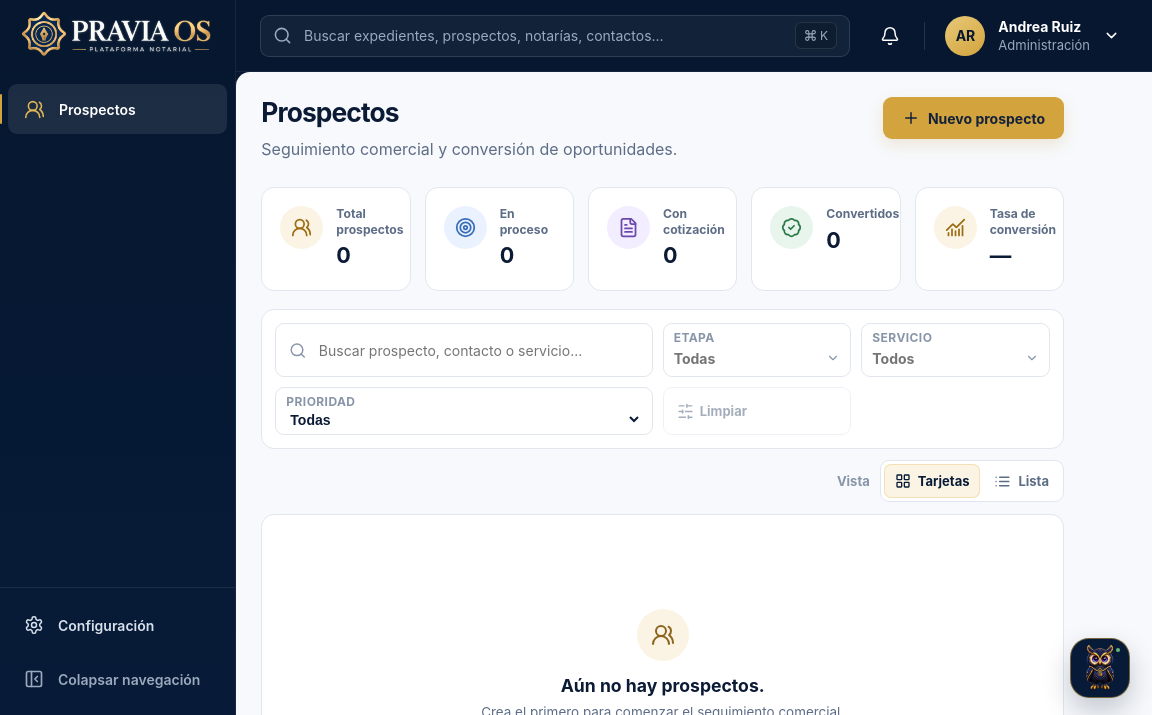
Test case: Prospectos › nuevo prospecto solicita sólo el mínimo, asigna datos automáticos y abre la ficha
expect the heading "Aún no hay prospectos." is shown: met, box [561,675,765,696]
Click the button "Nuevo prospecto". click: (973, 118)
box: [883,97,1064,139]
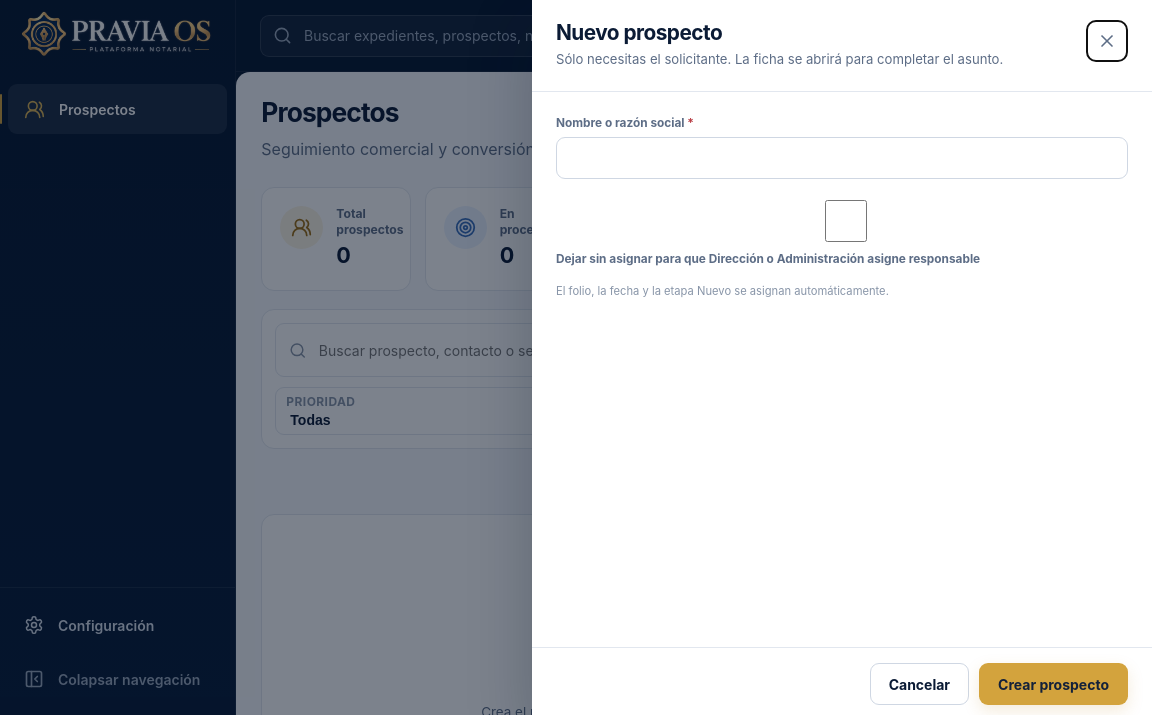
expect the number of fields is 2: met
expect the text "folio, la fecha y la etapa Nuevo se asignan automáticamente" is shown: met, box [556,284,889,298]
Type "Francisco Javier Tapia López" into the field labelled "Nombre o razón social *". click: (842, 158)
box: [556,137,1128,179]
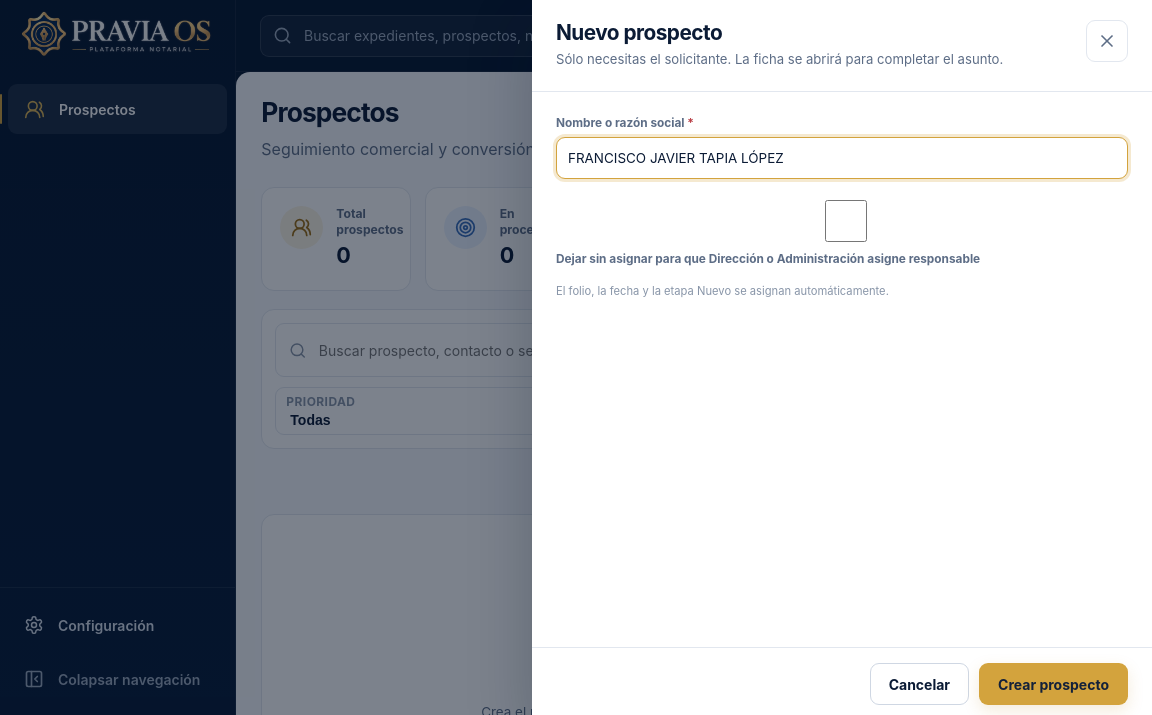
Click the button "Crear prospecto". click: (1054, 684)
box: [979,663,1128,705]
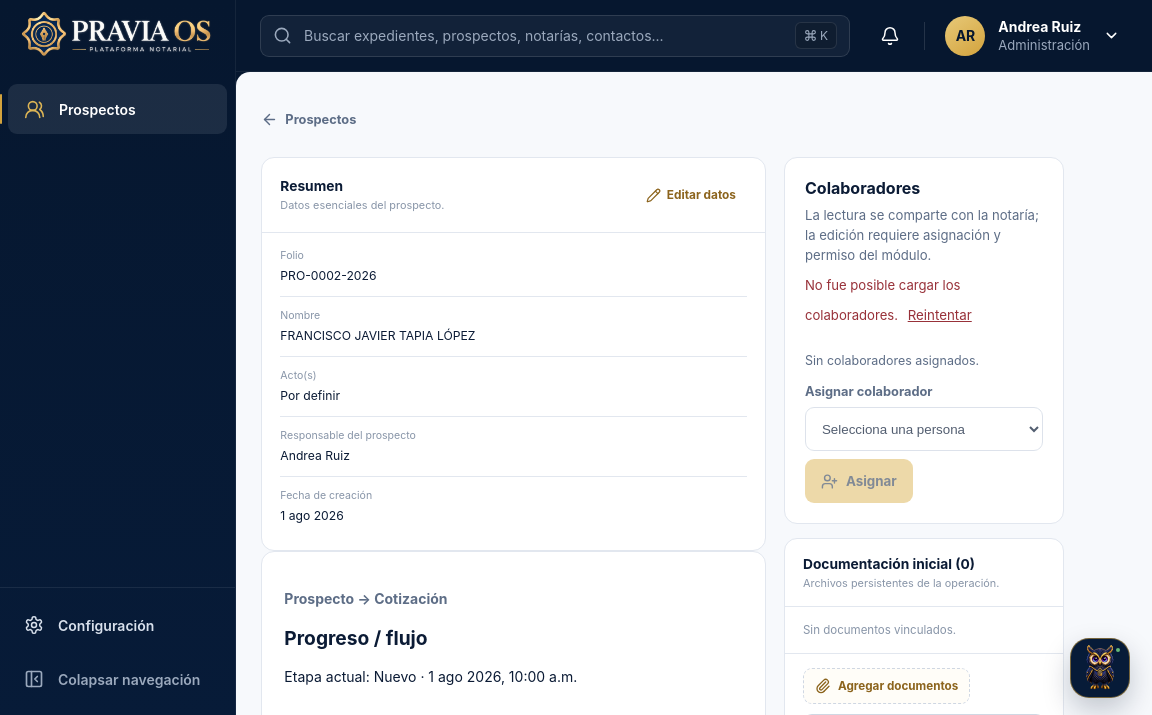
expect the text "PRO-0002-2026" is shown: met, box [280,268,376,283]
